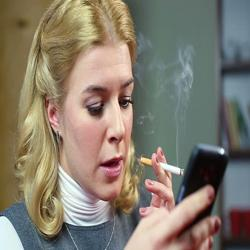smoking: (138, 145, 186, 218)
use_mobile: (124, 141, 231, 250)
